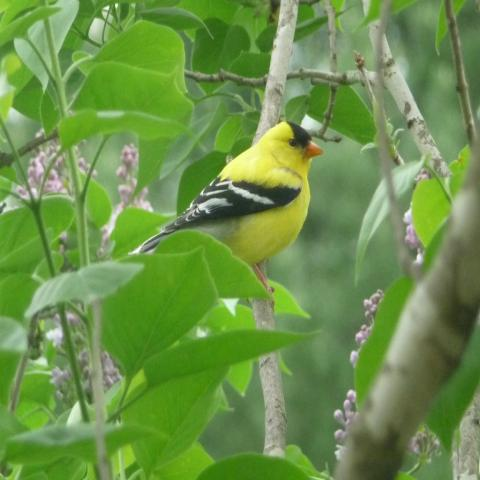bird: (126, 118, 326, 306)
